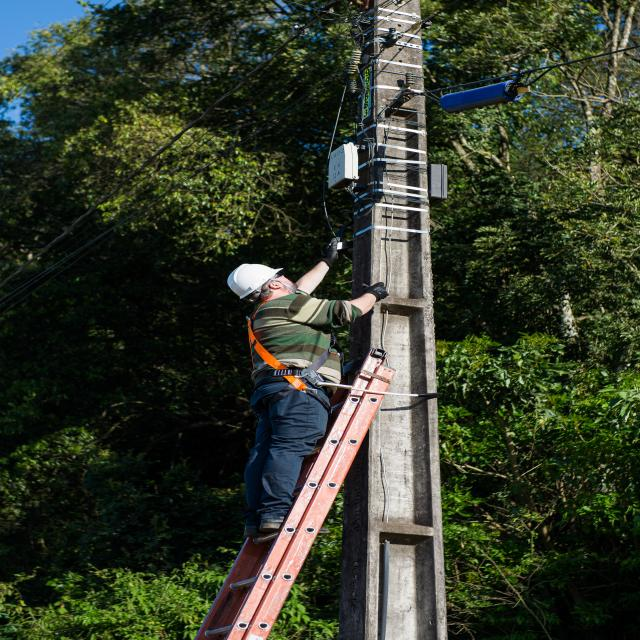capacete: (225, 262, 283, 299)
luva: (318, 235, 344, 271), (358, 279, 390, 302)
